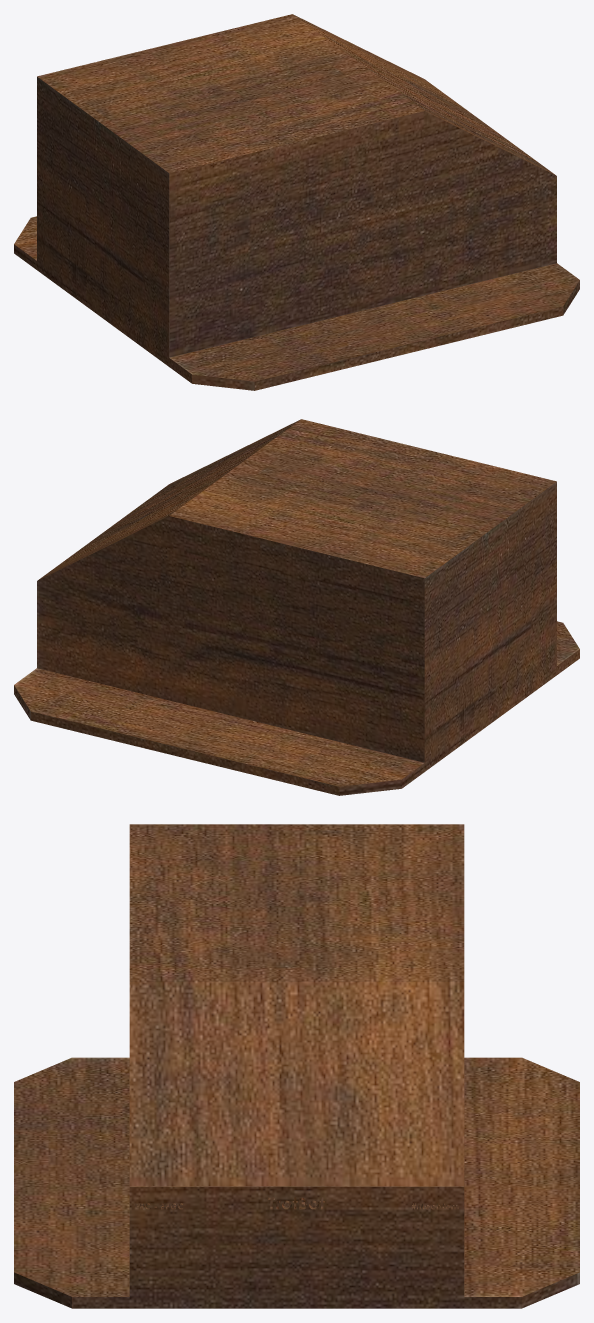
File: trotbot.dae
The picture shows the model from 3 angles, top to bottom: view 1: azimuth 30°, elevation 25°; view 2: azimuth 150°, elevation 25°; view 3: azimuth 270°, elevation 25°; orthographic projection. The views are drawn at different scales.
Visible parts, largest first — view 1: Trotbot Full Stl; view 2: Trotbot Full Stl; view 3: Trotbot Full Stl.
Part boxes in pixels (x1=…): Trotbot Full Stl: x1=14, y1=14, x2=579, y2=390; Trotbot Full Stl: x1=14, y1=419, x2=579, y2=795; Trotbot Full Stl: x1=14, y1=824, x2=579, y2=1308.
Size of the model in its own units: 0.44 by 0.44 by 0.21.
1 material, 1 textured.
